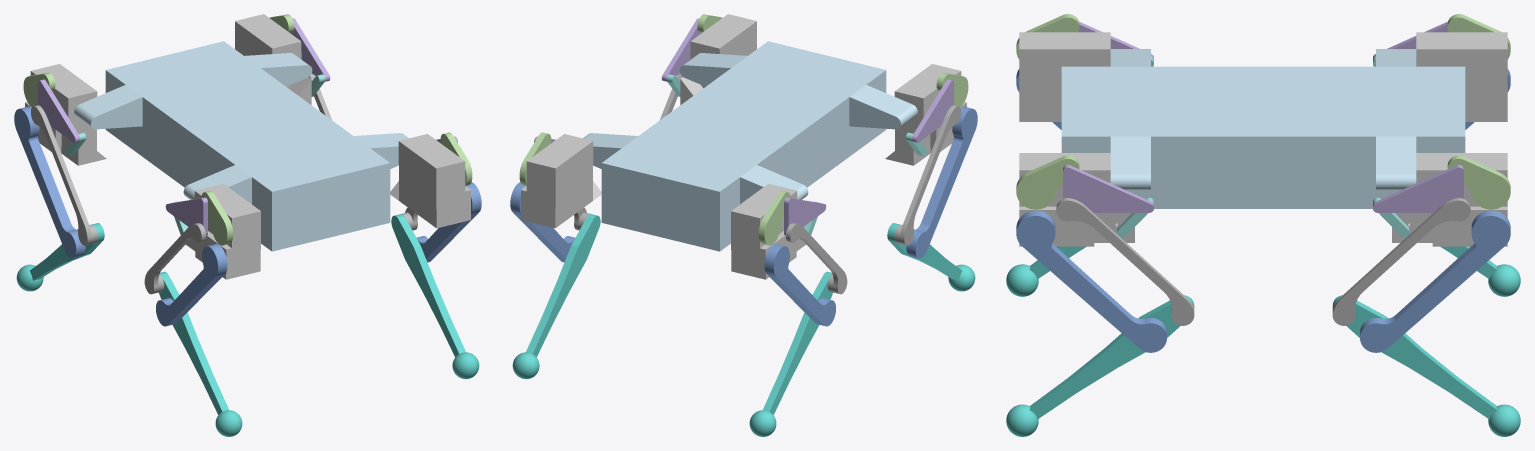
The model's file is four-leg-visual.gltf.
The picture shows the model from 3 angles, left to right: view 1: azimuth 30°, elevation 25°; view 2: azimuth 150°, elevation 25°; view 3: azimuth 270°, elevation 25°; orthographic projection. The views are drawn at different scales.
Visible parts, largest first — view 1: Main, Hub RF, Hub LF, Tibula RF, Femur LR, Hub LR, Hub RR, Tibula LF, Femur LF, Long Link LR, Tibula LR, Femur RF (+7 smaller); view 2: Main, Hub RR, Hub LR, Tibula RR, Femur LF, Hub LF, Hub RF, Tibula LR, Femur LR, Long Link LF, Tibula LF, Femur RR (+7 smaller); view 3: Main, Hub LF, Hub LR, Femur RF, Femur RR, Tibula RF, Tibula RR, Hub RF, Hub RR, Long Link RF, Long Link RR, Tri Link RF (+7 smaller).
Part boxes in pixels (box(x1,y1,x2,y2)): Main: box(74, 41, 408, 251); Hub RF: box(390, 134, 470, 228); Hub LF: box(186, 184, 260, 279); Tibula RF: box(391, 214, 479, 379); Femur LR: box(14, 106, 85, 258); Hub LR: box(25, 64, 106, 165); Hub RR: box(235, 14, 311, 104); Tibula LF: box(159, 271, 242, 436); Femur LF: box(156, 244, 227, 326); Long Link LR: box(31, 105, 97, 245); Tibula LR: box(16, 223, 104, 291); Femur RF: box(417, 182, 481, 262); Main: box(583, 41, 917, 251); Hub RR: box(521, 134, 601, 228); Hub LR: box(731, 184, 805, 279); Tibula RR: box(512, 214, 600, 379); Femur LF: box(906, 106, 977, 258); Hub LF: box(885, 64, 966, 165); Hub RF: box(680, 14, 756, 104); Tibula LR: box(749, 271, 832, 436); Femur LR: box(764, 244, 835, 326); Long Link LF: box(894, 105, 960, 245); Tibula LF: box(887, 223, 975, 291); Femur RR: box(510, 182, 574, 262); Main: box(1061, 49, 1465, 208); Hub LF: box(1019, 32, 1110, 121); Hub LR: box(1416, 32, 1507, 121); Femur RF: box(1016, 210, 1166, 352); Femur RR: box(1360, 210, 1510, 352); Tibula RF: box(1006, 295, 1194, 436); Tibula RR: box(1332, 295, 1520, 436); Hub RF: box(1019, 153, 1134, 246); Hub RR: box(1392, 153, 1507, 246); Long Link RF: box(1056, 198, 1194, 325); Long Link RR: box(1332, 198, 1470, 325); Tri Link RF: box(1063, 164, 1153, 212).
Bounding box in the file's own units: 0.2272 × 0.1893 × 0.3165.
